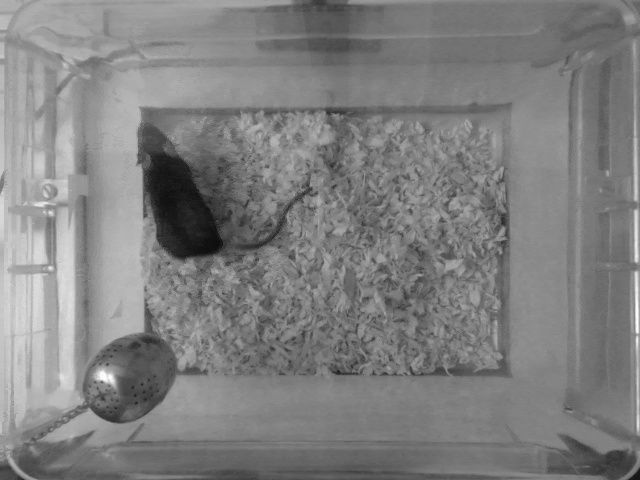mice: (129, 120, 320, 257)
